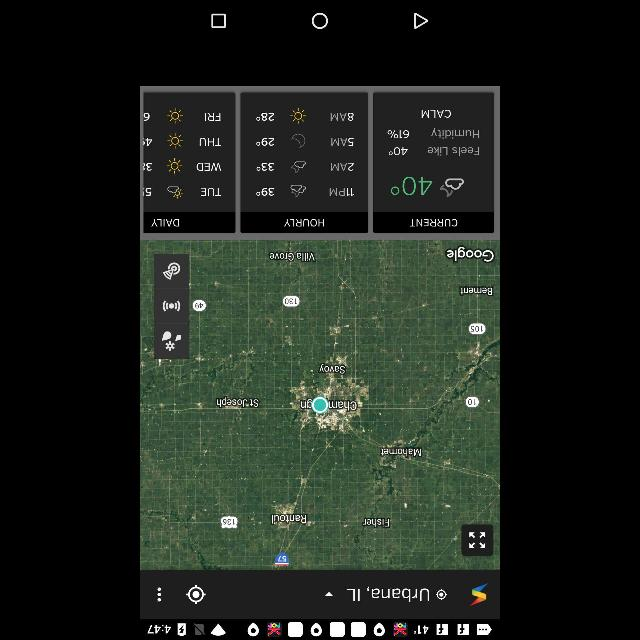icon: (390, 172, 434, 200), (436, 176, 469, 198), (467, 580, 491, 608), (164, 104, 186, 128), (286, 130, 308, 152), (286, 107, 310, 127), (186, 584, 207, 606), (164, 181, 186, 201), (164, 156, 186, 176), (287, 157, 309, 176), (164, 132, 186, 150), (286, 182, 310, 198), (468, 532, 486, 550), (413, 12, 429, 30), (312, 12, 328, 30), (211, 14, 227, 28), (434, 590, 448, 600), (156, 588, 162, 602), (324, 592, 334, 598)
map: (140, 240, 500, 570)
panel: (140, 2, 500, 40)
text: (342, 583, 431, 605), (424, 142, 484, 160), (422, 128, 482, 142), (404, 217, 461, 229), (282, 215, 326, 229), (418, 106, 456, 122), (198, 110, 226, 128), (327, 134, 357, 150), (328, 160, 357, 176), (328, 110, 357, 126), (192, 160, 224, 174), (386, 126, 409, 144), (328, 185, 357, 199), (253, 110, 277, 126), (197, 186, 223, 200), (196, 136, 226, 148), (150, 218, 184, 228), (254, 160, 276, 173), (255, 186, 275, 200), (254, 136, 276, 148), (389, 146, 411, 158)
toolbar: (140, 572, 500, 618)
uppertaskbar: (140, 618, 500, 640)
